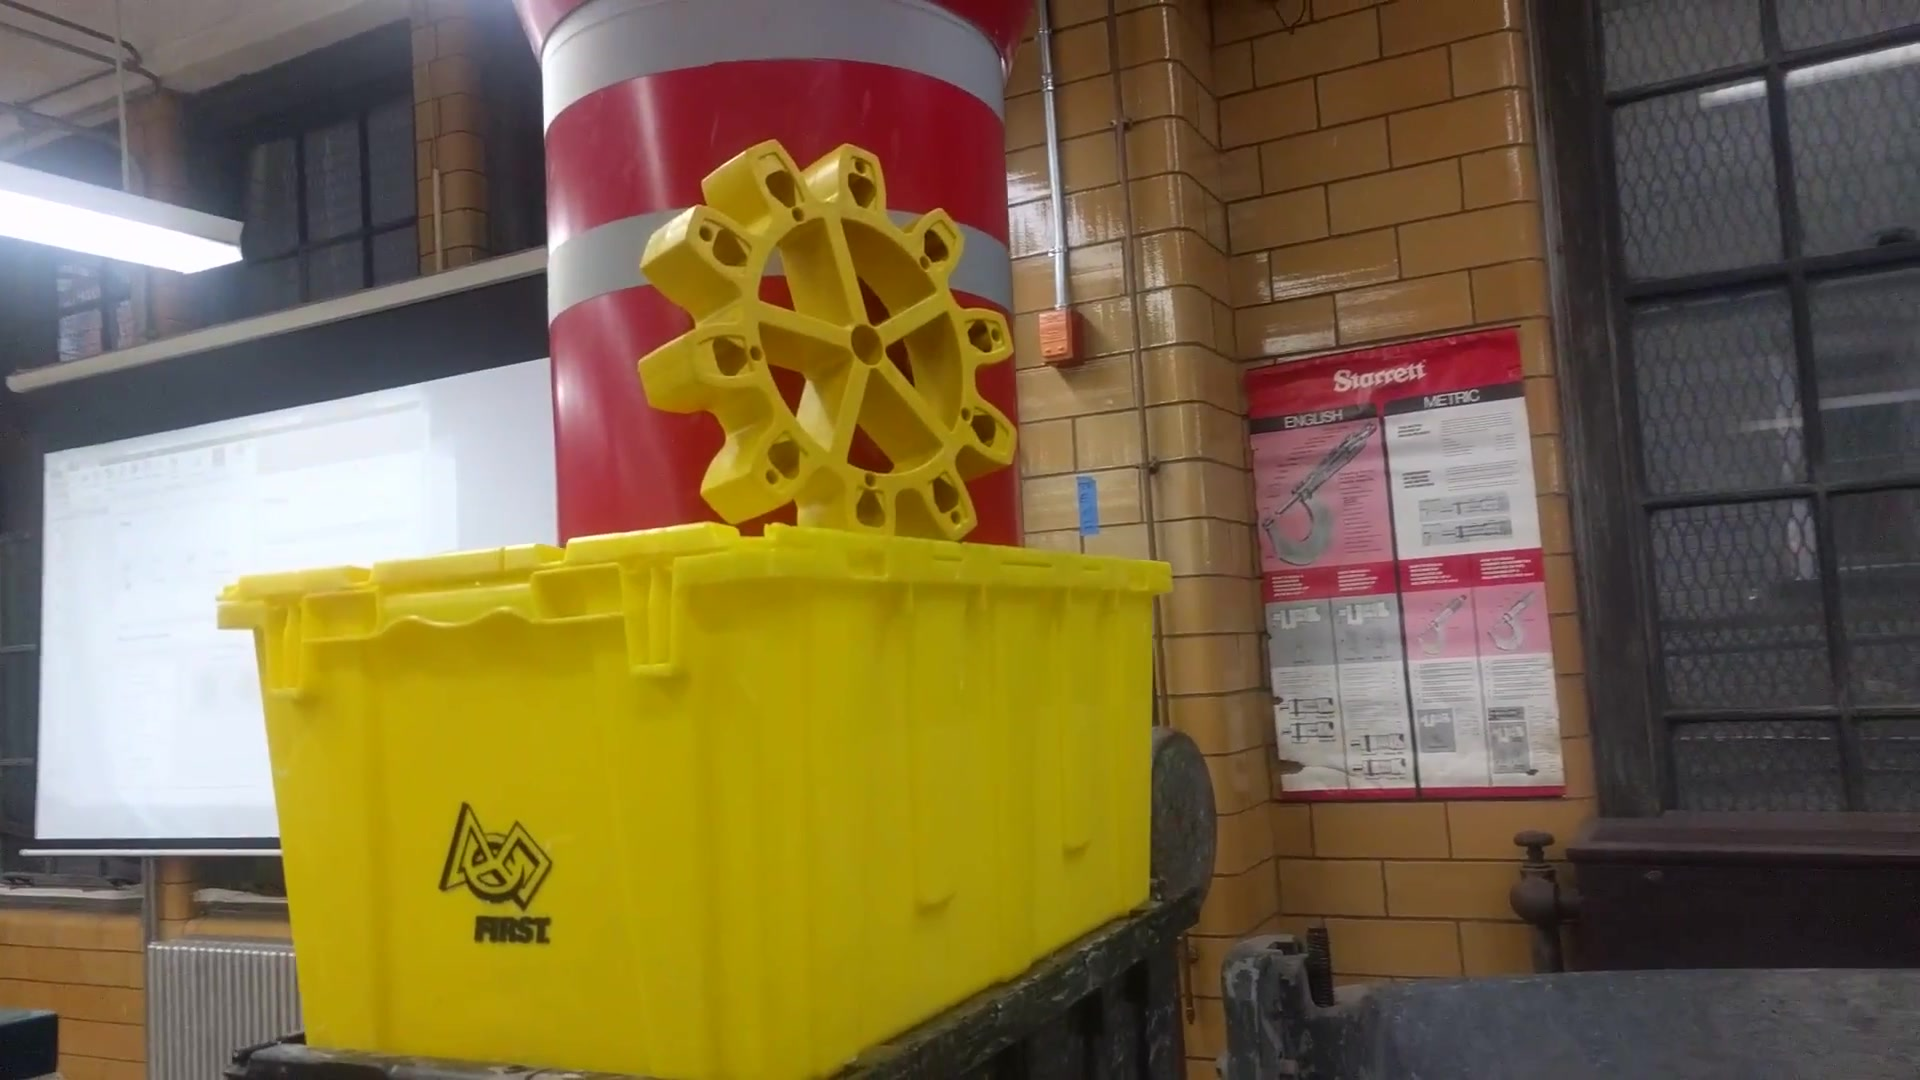gear: (640, 129, 1040, 553)
